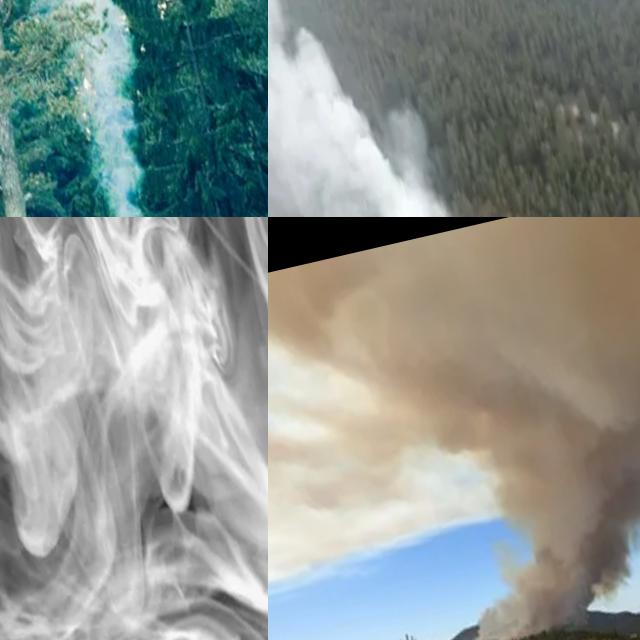smoke: (0, 217, 268, 640), (268, 0, 513, 217), (428, 395, 640, 640), (29, 0, 201, 217)
